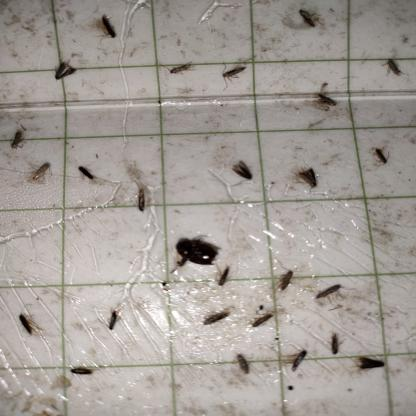prays_oleae: (10, 306, 48, 344), (309, 78, 339, 124), (27, 151, 57, 196), (312, 278, 348, 314), (201, 301, 237, 335), (378, 48, 406, 90), (221, 57, 250, 97), (229, 341, 253, 389), (277, 349, 310, 381), (354, 350, 389, 380), (273, 264, 301, 301), (131, 175, 151, 224), (294, 160, 322, 194), (6, 122, 31, 160), (296, 1, 322, 36), (68, 356, 94, 388), (249, 304, 275, 336), (225, 158, 252, 187), (326, 326, 346, 364), (76, 155, 94, 197), (168, 54, 193, 84), (214, 257, 236, 291), (99, 12, 120, 47), (370, 139, 392, 172), (52, 58, 75, 89), (104, 300, 119, 338)
